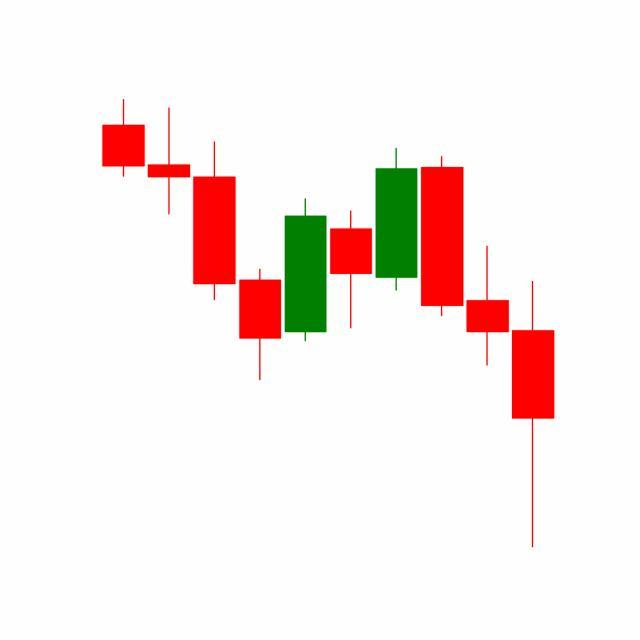Hikkake Pattern: (283, 146, 512, 369)
